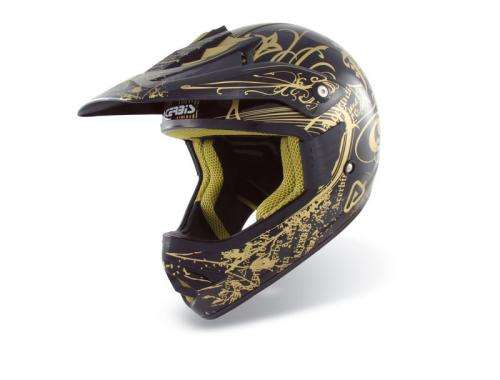helmet: (162, 14, 395, 319)
